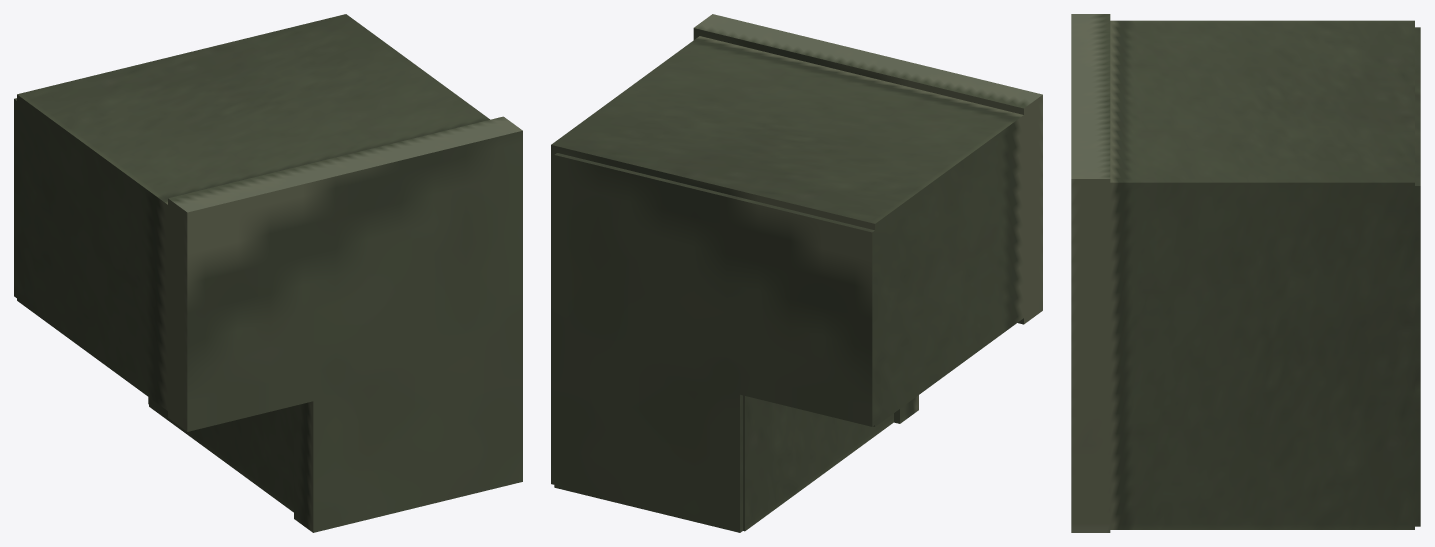
The model's file is pz_counter_green_corner.obj.
3 renders of one model, left to right at view 1: azimuth 30°, elevation 25°; view 2: azimuth 150°, elevation 25°; view 3: azimuth 270°, elevation 25°, orthographic. The views are drawn at different scales.
Bounding box in the file's own units: 1 × 1 × 0.895.
Materials: 1 (1 with a texture image).
